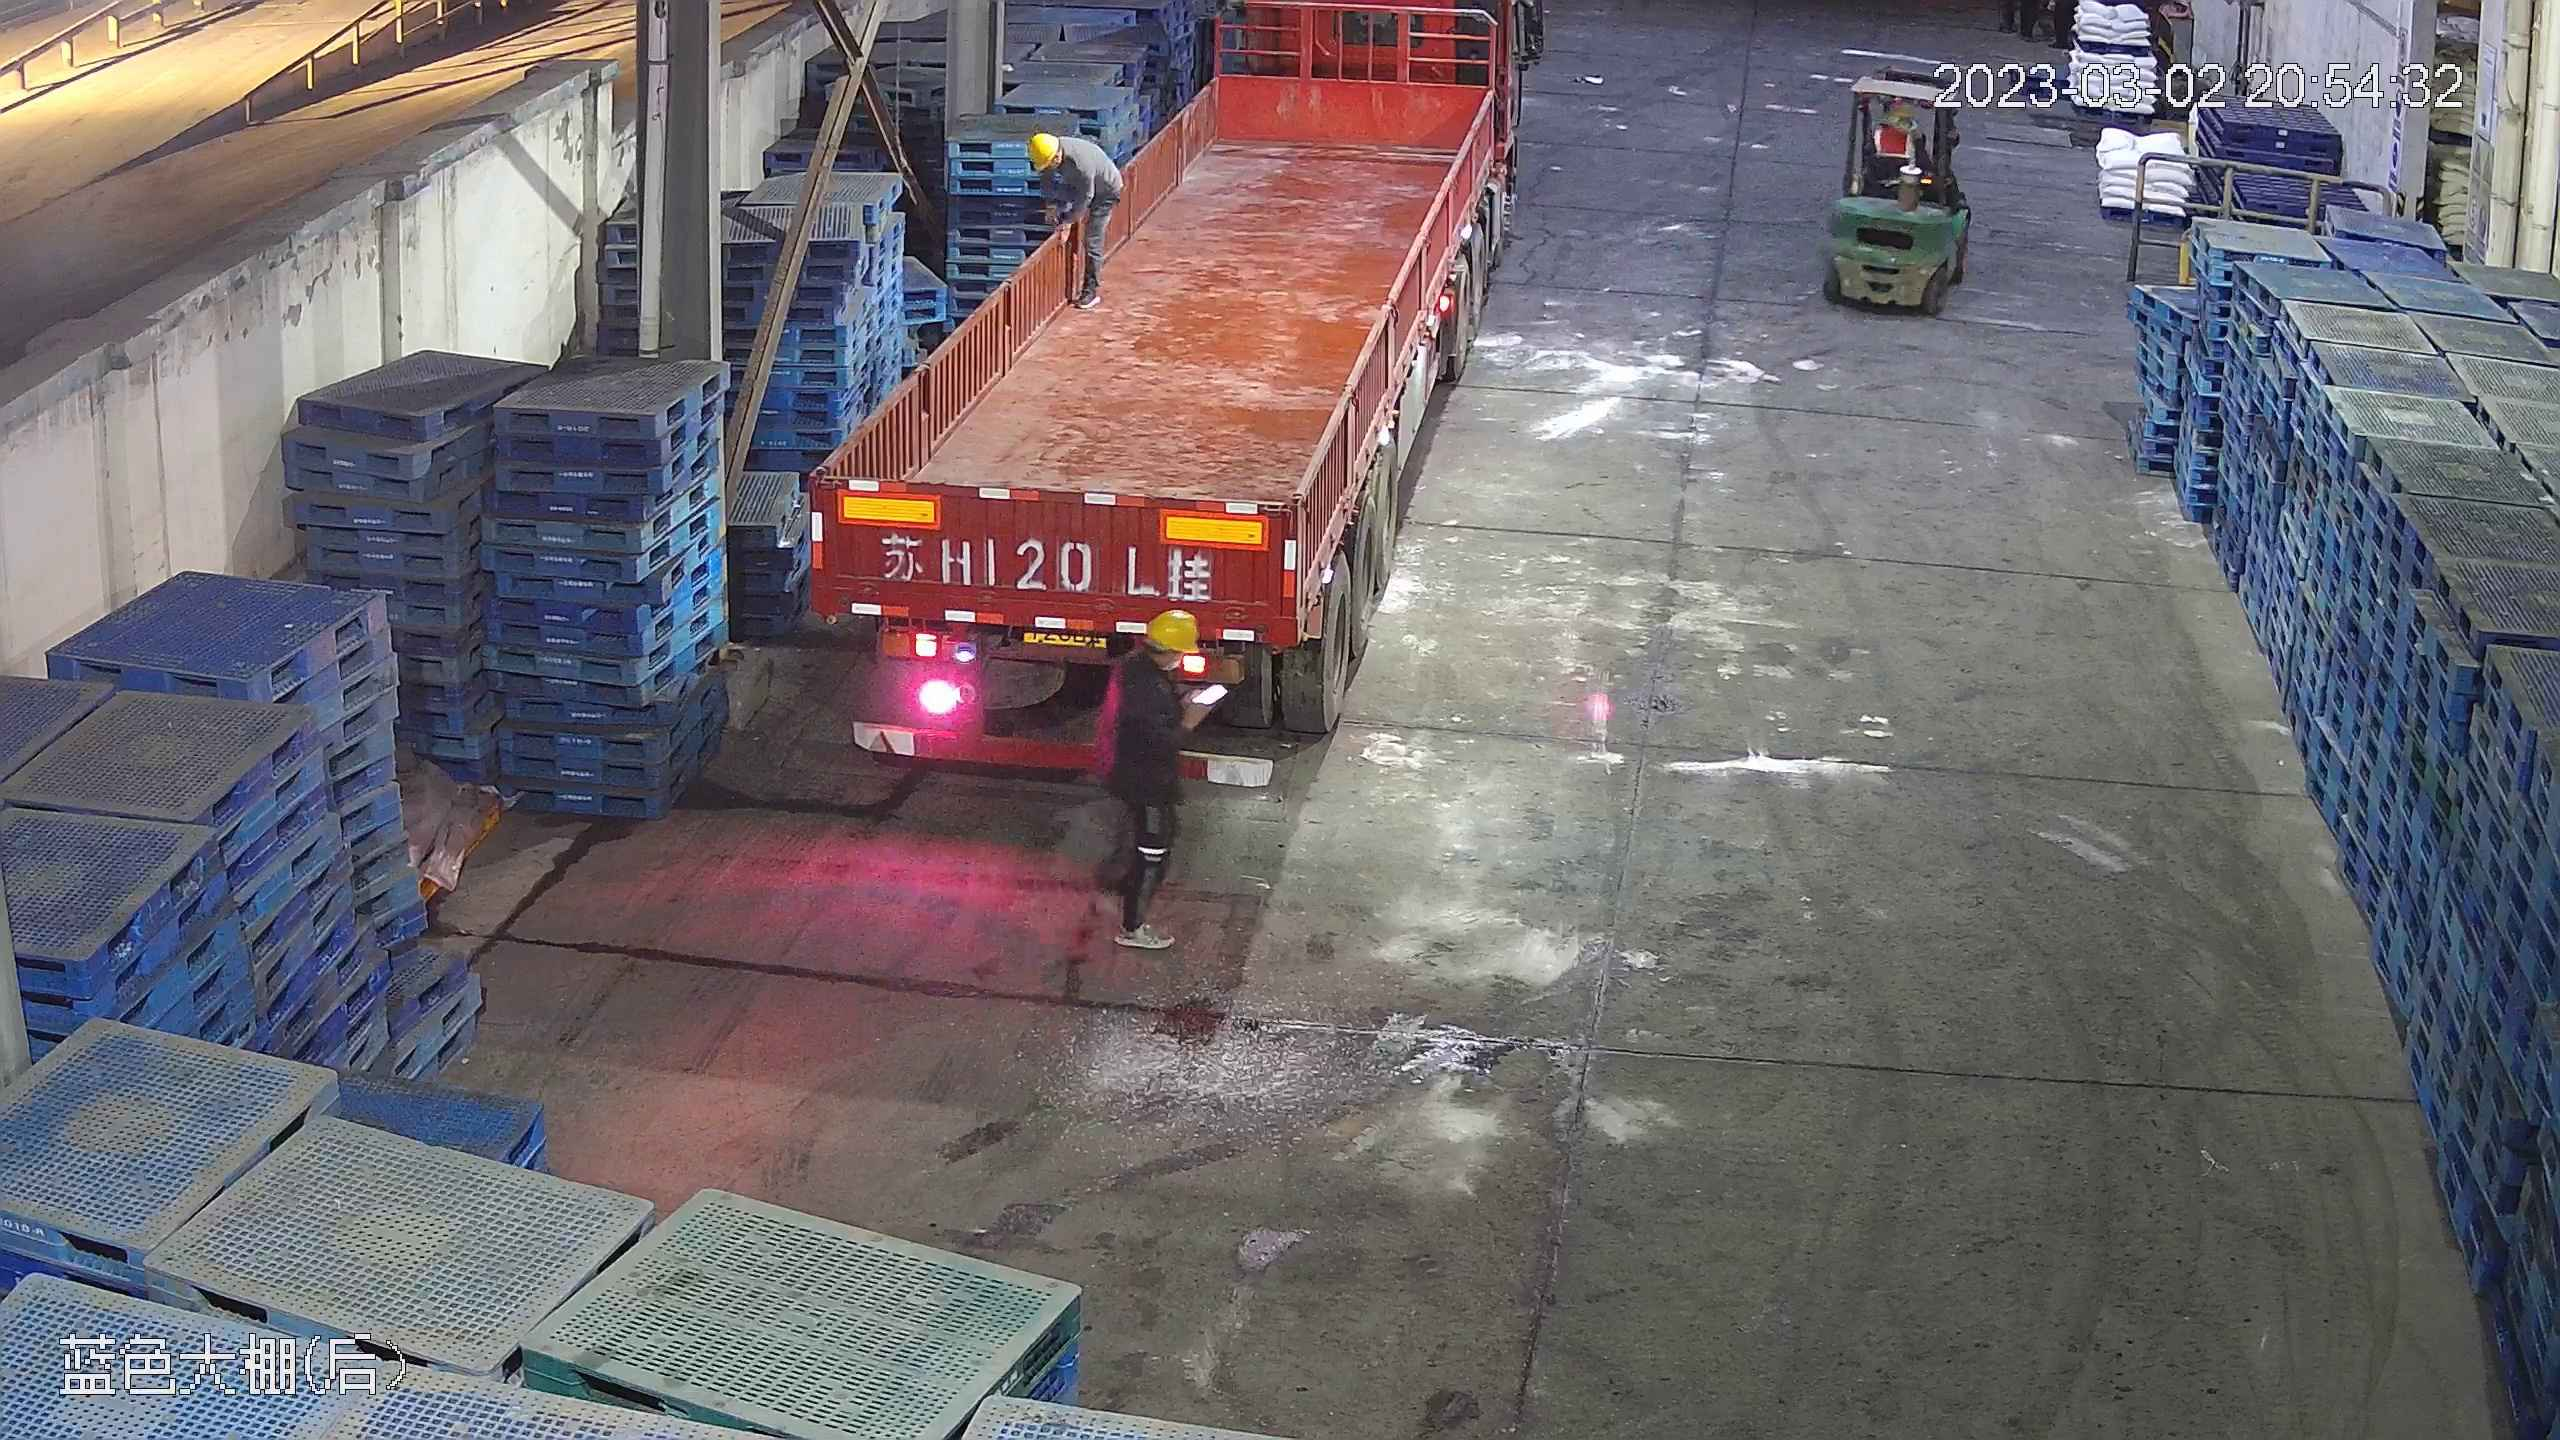head: (1113, 607, 1207, 716), (1025, 133, 1094, 194), (1871, 100, 1917, 152)
helmet: (1143, 606, 1201, 656), (1028, 131, 1059, 169)
people: (1095, 602, 1216, 948), (1024, 128, 1117, 304)
truck: (813, 10, 1533, 776)
